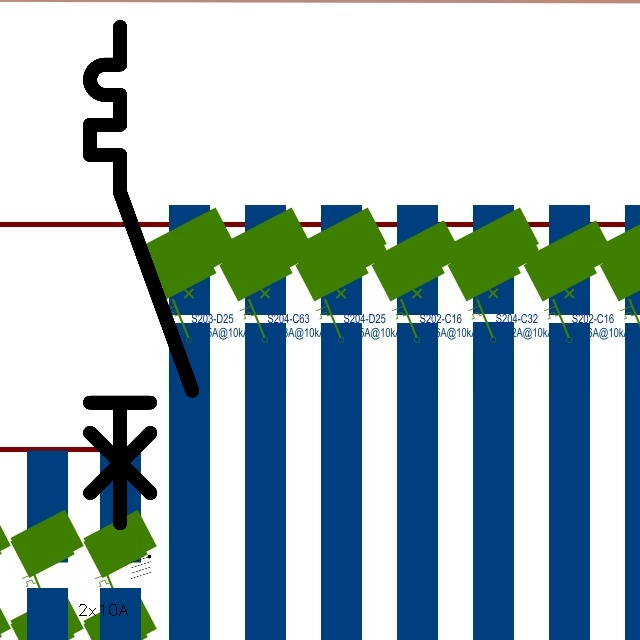interruptor_termomagnetico: (77, 14, 205, 536)
